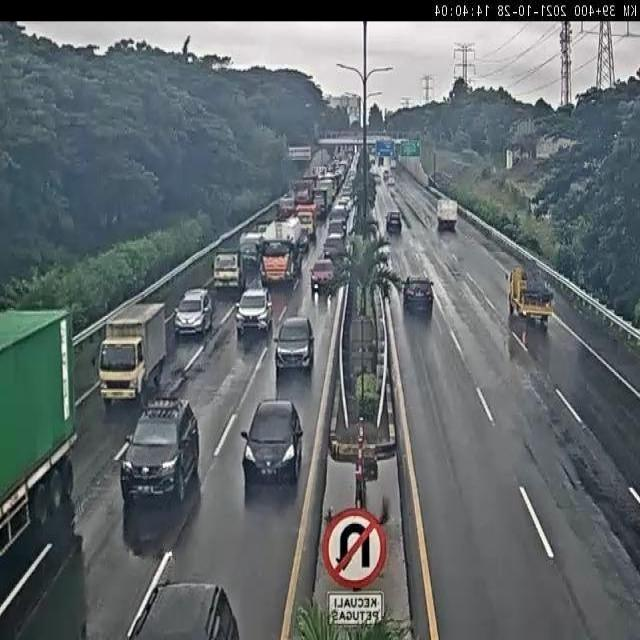Car: (120, 396, 199, 506), (234, 287, 274, 340), (403, 276, 435, 316), (310, 257, 336, 293), (386, 211, 402, 234)
Truck: (0, 309, 81, 627), (94, 291, 170, 414), (125, 579, 242, 639), (122, 472, 199, 555), (240, 399, 305, 494), (340, 454, 388, 530), (508, 266, 554, 327), (273, 314, 315, 376), (335, 272, 357, 384), (257, 234, 301, 289), (510, 317, 549, 370), (174, 288, 214, 338), (212, 250, 245, 294), (238, 231, 266, 282), (374, 137, 417, 161), (536, 134, 573, 161), (270, 215, 302, 246), (292, 178, 316, 216), (315, 178, 336, 218), (435, 158, 470, 182), (323, 232, 346, 264), (295, 207, 316, 242), (436, 199, 458, 231), (331, 199, 352, 231), (281, 148, 296, 190), (343, 202, 358, 242), (360, 453, 378, 482), (341, 176, 357, 208), (529, 197, 552, 219), (276, 195, 295, 221), (376, 238, 392, 266), (379, 276, 393, 304), (324, 171, 340, 195), (346, 153, 359, 181), (288, 146, 312, 161), (429, 171, 450, 188), (339, 261, 352, 286), (424, 178, 442, 195), (334, 163, 347, 185), (326, 130, 354, 140), (376, 140, 393, 156), (367, 215, 379, 237), (450, 156, 470, 169), (368, 167, 379, 190), (281, 131, 290, 159), (402, 279, 412, 301), (556, 102, 573, 114), (349, 111, 360, 128), (431, 145, 437, 176), (221, 231, 235, 244), (266, 290, 273, 316), (342, 147, 354, 162), (257, 224, 269, 237), (312, 122, 320, 141), (506, 149, 513, 170), (369, 196, 377, 214), (367, 142, 377, 156), (316, 165, 326, 178), (394, 138, 407, 148), (428, 173, 437, 187), (326, 292, 332, 311), (424, 278, 436, 287), (323, 247, 332, 258), (369, 155, 376, 167), (210, 259, 215, 275), (388, 175, 394, 187), (383, 169, 389, 181), (378, 155, 384, 167), (390, 160, 396, 170), (354, 146, 360, 156), (382, 130, 388, 136), (505, 272, 509, 280)
